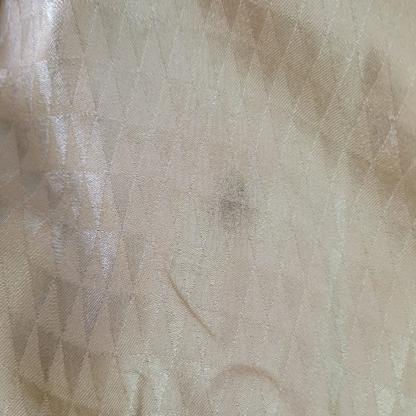spot: (204, 159, 273, 249)
